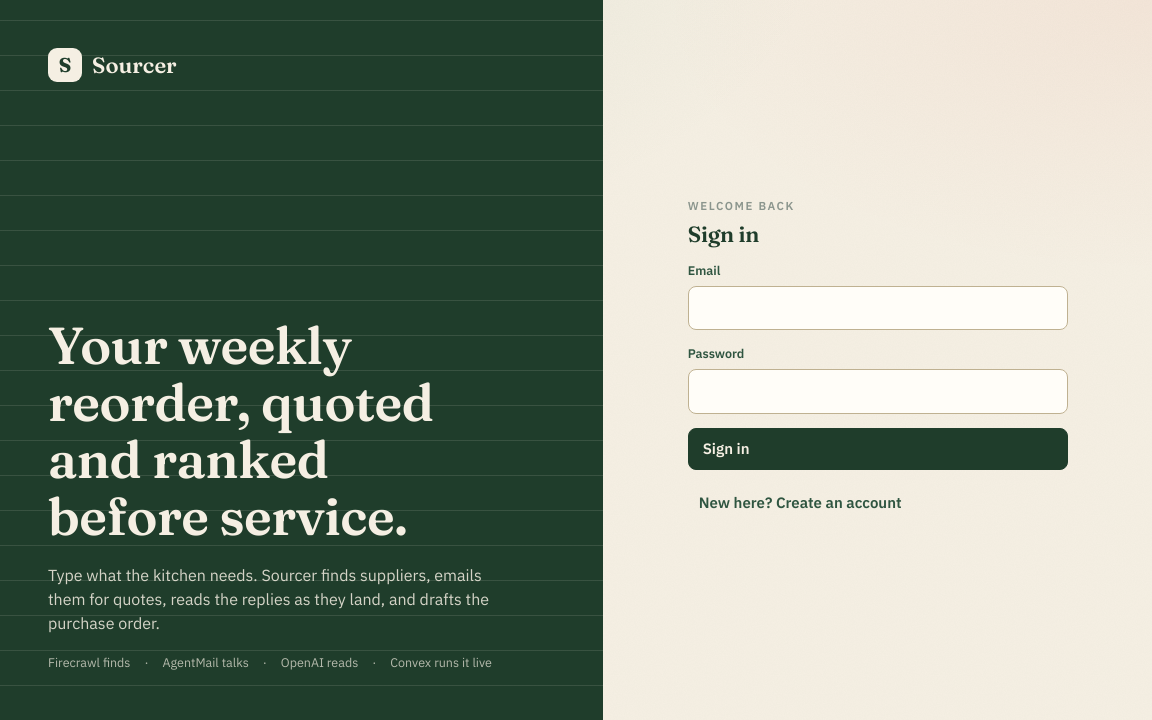
Test case: SignIn › shows a readable message when the server rejects the credentials
Type "a@b.co" into the field labelled "Email".
click(878, 308); type("a@b.co")  # box [688,286,1068,330]
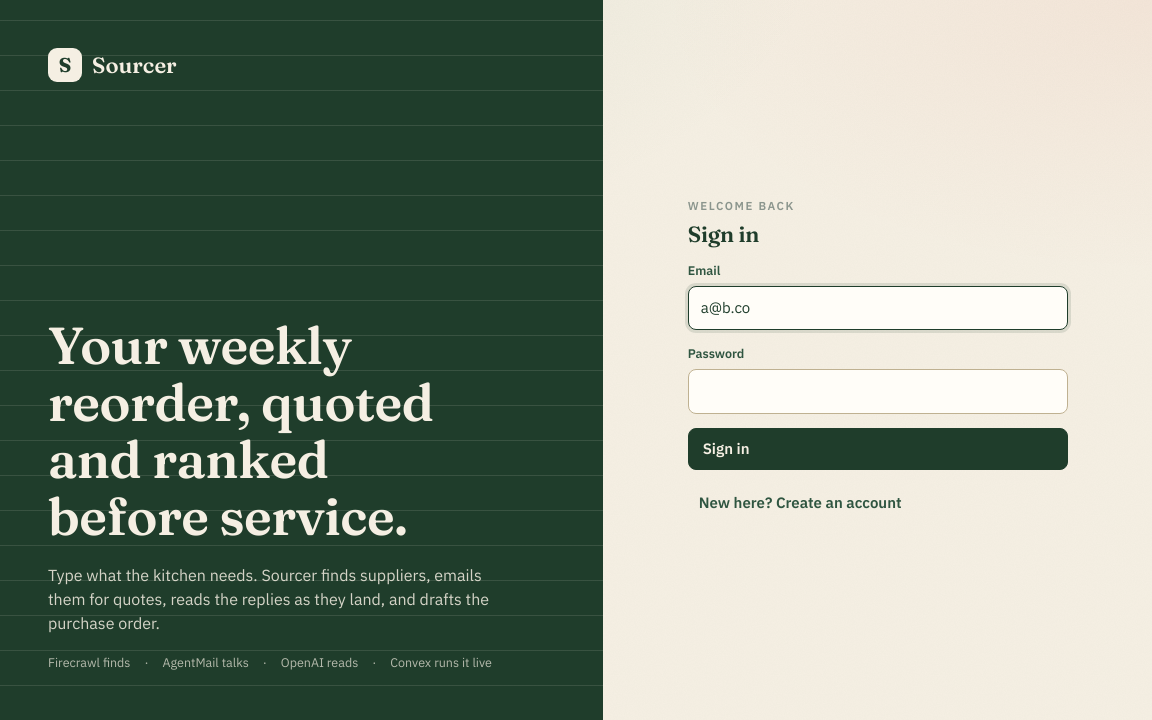
Type "wrongwrong" into the password field labelled "Password".
click(878, 391); type("wrongwrong")  # box [688,369,1068,414]
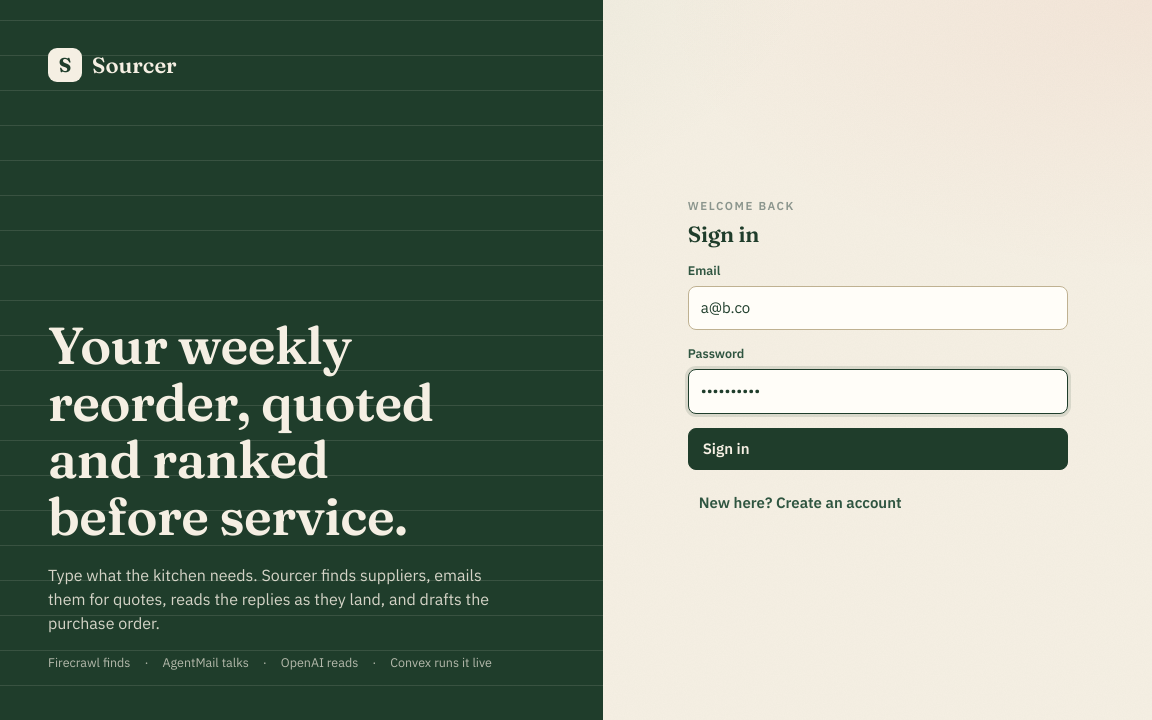
Click the button "Sign in".
click(726, 448)  # box [688,428,1068,470]
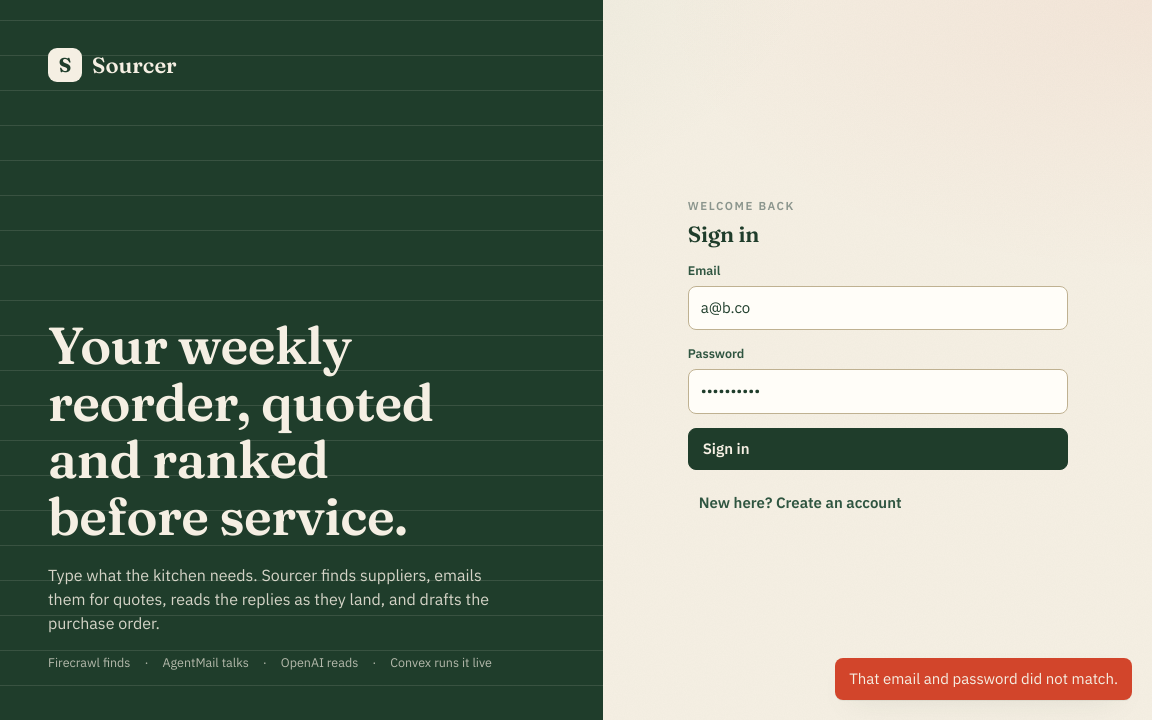
Check: the text "That email and password did not match." is shown, box [835,658,1132,700]
